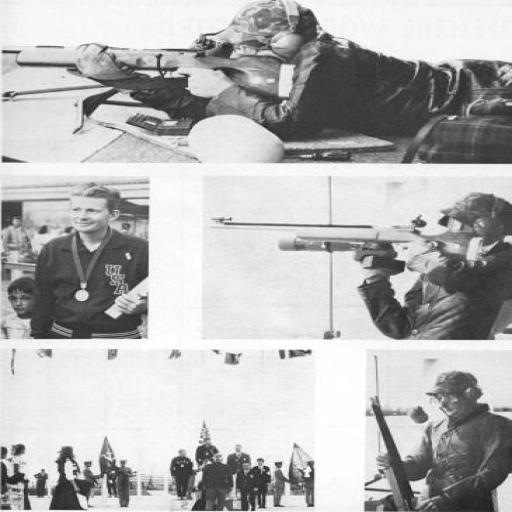shooting: (14, 13, 512, 193), (223, 188, 512, 346), (372, 369, 510, 511)
